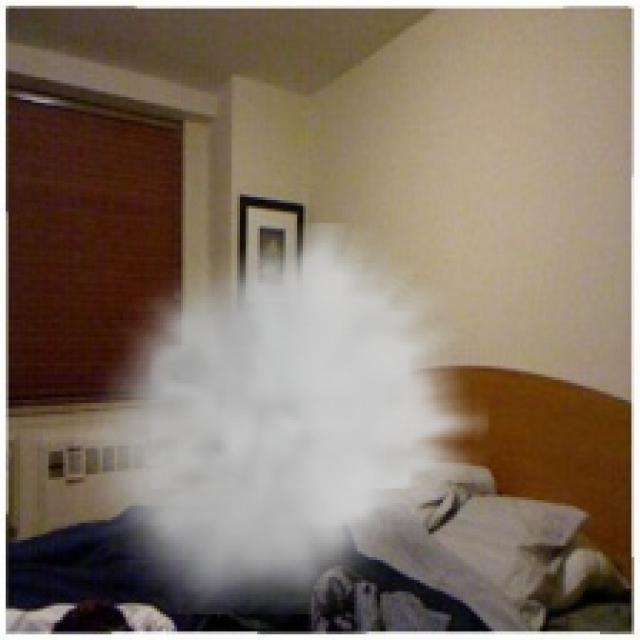Smoke: (74, 222, 489, 614)
